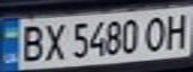0: (121, 16, 142, 55)
4: (87, 18, 109, 57)
5: (66, 19, 90, 60)
8: (103, 17, 124, 56)
B: (15, 21, 48, 63)
H: (160, 10, 193, 51)
O: (142, 12, 172, 52)
X: (39, 20, 69, 62)
